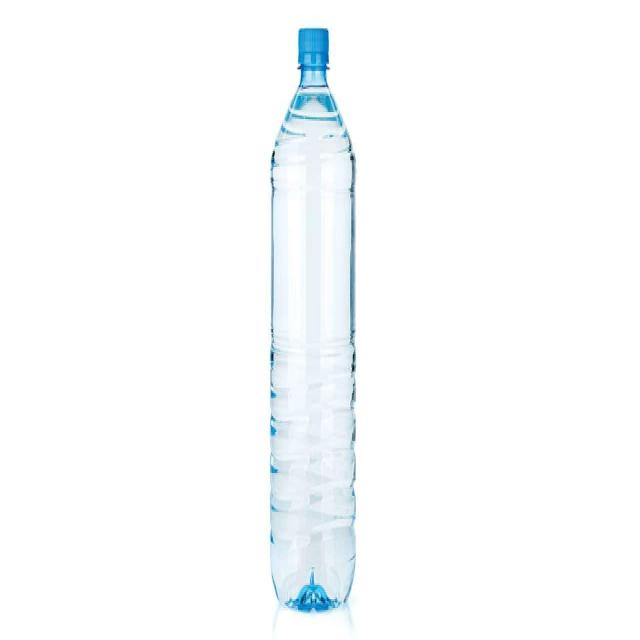plastic_bottle: (264, 20, 370, 626)
